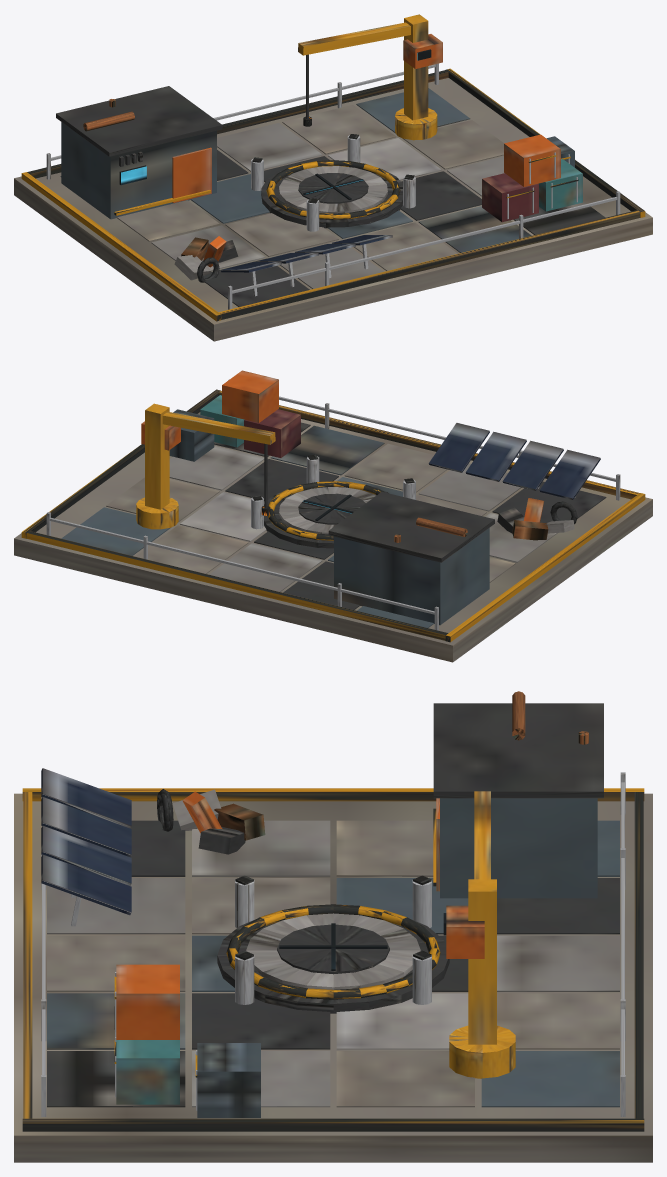
Rendered from repair-district.gltf.
The picture shows the model from 3 angles, top to bottom: view 1: azimuth 30°, elevation 25°; view 2: azimuth 150°, elevation 25°; view 3: azimuth 270°, elevation 25°; orthographic projection. The views are drawn at different scales.
Visible parts, largest first — view 1: RepairDistrictGeometry; view 2: RepairDistrictGeometry; view 3: RepairDistrictGeometry.
Part boxes in pixels (left/top/right/bottom): RepairDistrictGeometry: left=14, top=14, right=652, bottom=341; RepairDistrictGeometry: left=14, top=370, right=652, bottom=662; RepairDistrictGeometry: left=14, top=691, right=652, bottom=1162.
Size of the model in its own units: 38 by 10.94 by 30.
15 materials, 15 textured.
